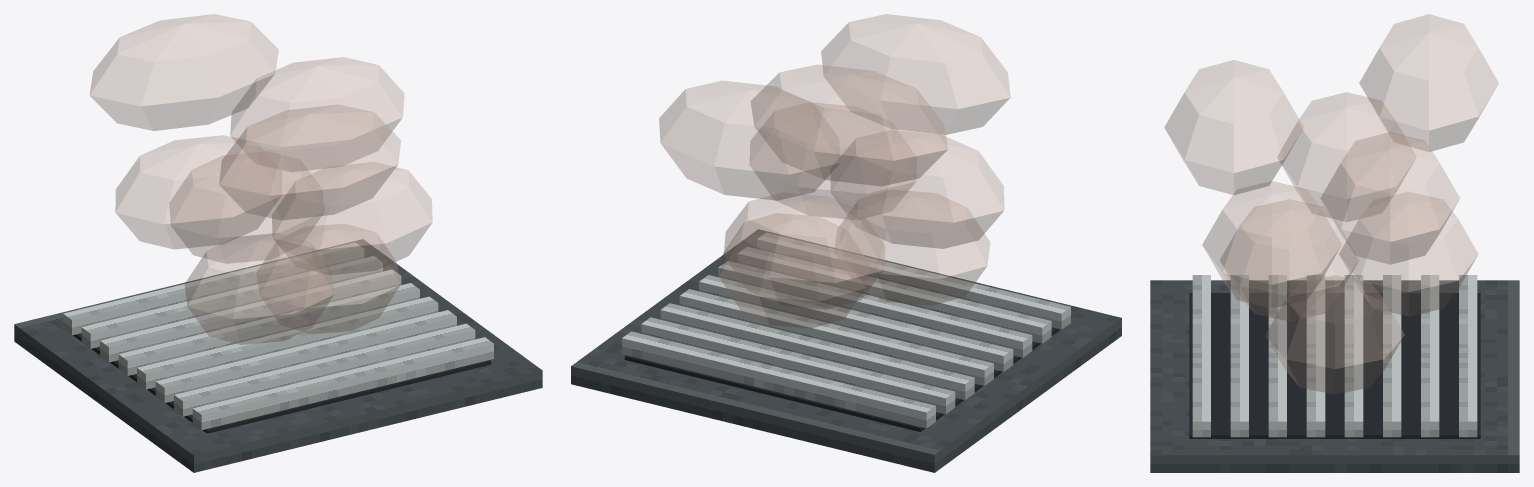
Rendered from f_vent_hot_air2_blast.glb.
3 views of the same model, side by side, from view 1: azimuth 30°, elevation 25°; view 2: azimuth 150°, elevation 25°; view 3: azimuth 270°, elevation 25° (orthographic). The views are drawn at different scales.
Visible parts, largest first — view 1: block_soft-edged-vent-plume (×8), block_metal-grate-slat (×8), block_floor-vent-frame, block_dark-duct-opening; view 2: block_soft-edged-vent-plume (×8), block_metal-grate-slat (×8), block_floor-vent-frame, block_dark-duct-opening; view 3: block_soft-edged-vent-plume (×8), block_floor-vent-frame, block_metal-grate-slat (×8), block_dark-duct-opening.
Boxes of the visible parts, x1,y1,x2,y2 form: block_soft-edged-vent-plume (×8): (90,14,432,344); block_metal-grate-slat (×8): (63,242,493,430); block_floor-vent-frame: (14,239,542,472); block_dark-duct-opening: (73,333,491,433); block_soft-edged-vent-plume (×8): (659,14,1010,327); block_metal-grate-slat (×8): (622,233,1070,428); block_floor-vent-frame: (571,229,1121,472); block_dark-duct-opening: (624,327,1060,431); block_soft-edged-vent-plume (×8): (1164,14,1498,394); block_floor-vent-frame: (1150,280,1519,472); block_metal-grate-slat (×8): (1192,275,1477,437); block_dark-duct-opening: (1189,293,1480,438).
Bounding box in the file's own units: 0.74 × 0.647 × 0.66.
Materials: 2 (2 with a texture image).
